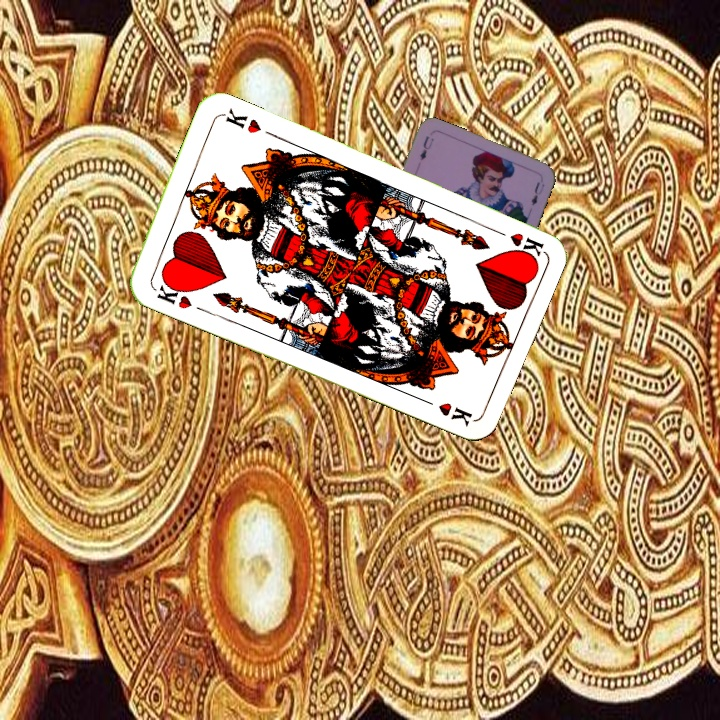EU: (416, 132, 436, 163)
HK: (487, 224, 545, 258), (152, 276, 195, 312)
